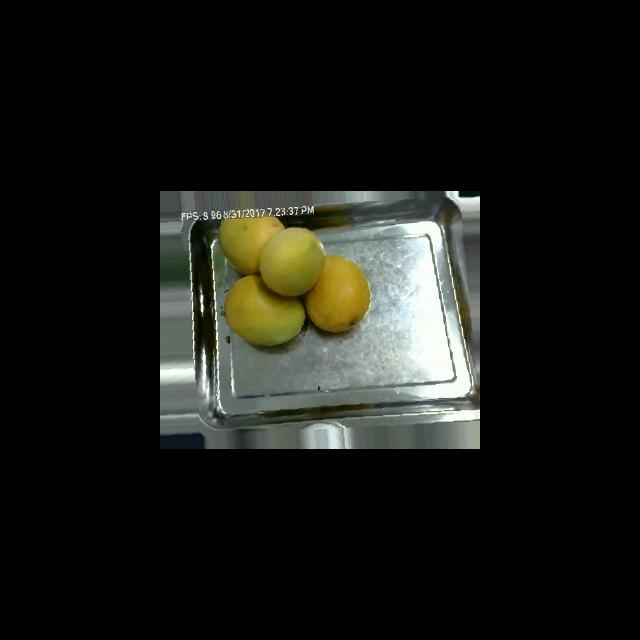Mango: (223, 274, 305, 346), (305, 254, 371, 333), (258, 226, 325, 296), (217, 215, 285, 275)
